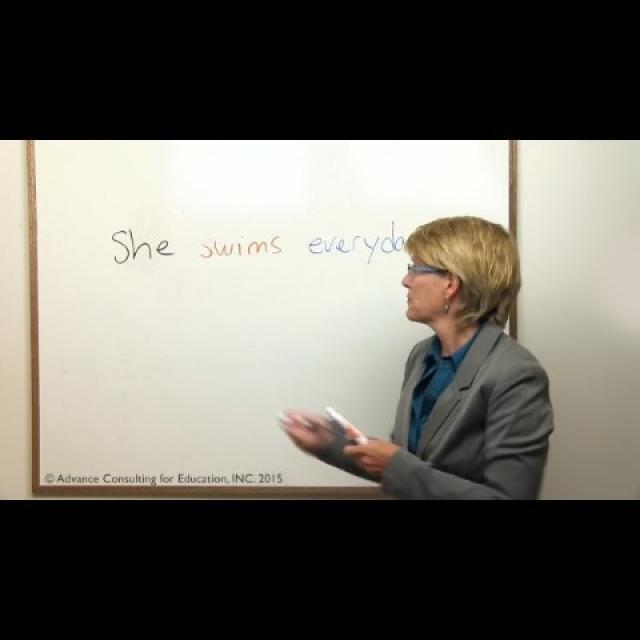Instructor: (364, 192, 550, 495)
White-board: (30, 140, 518, 496)
